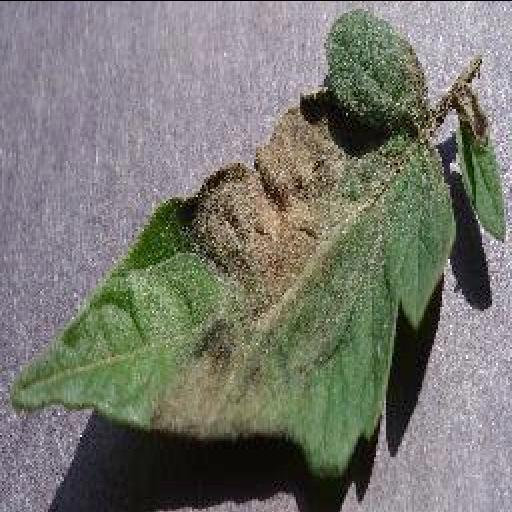disease_tomato: (6, 6, 458, 470)
